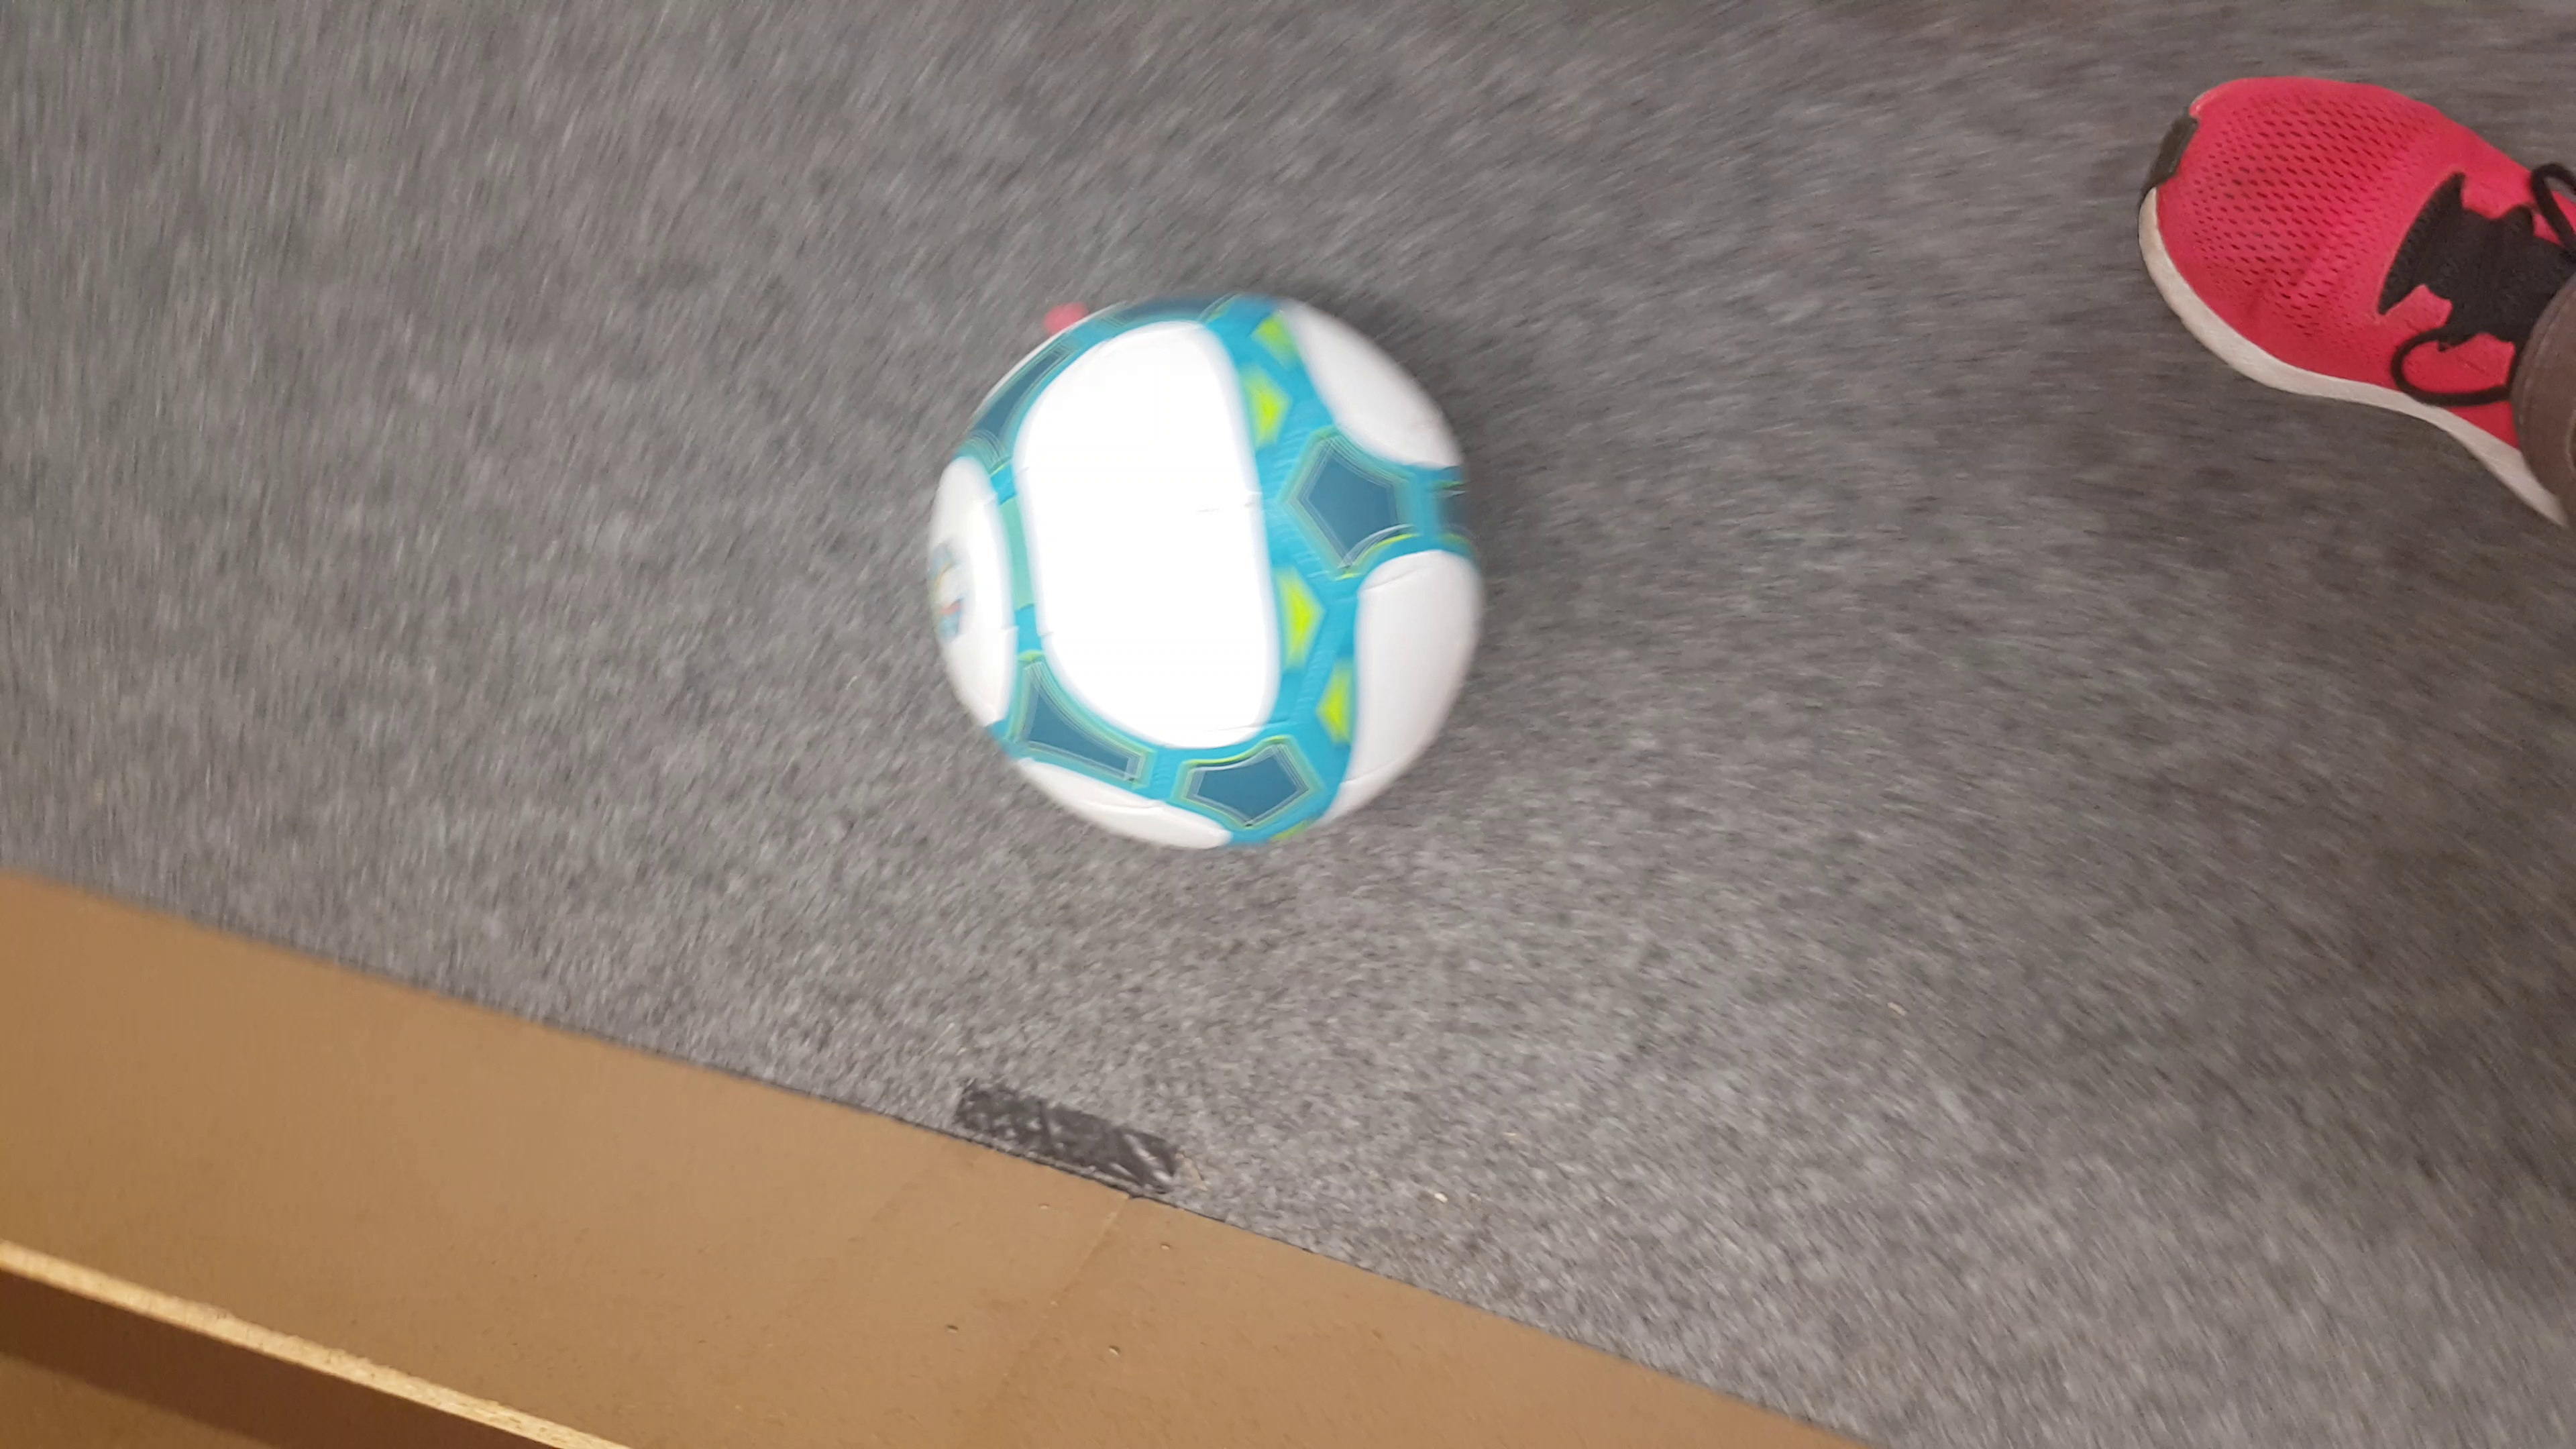kick: (929, 290, 1484, 844)
